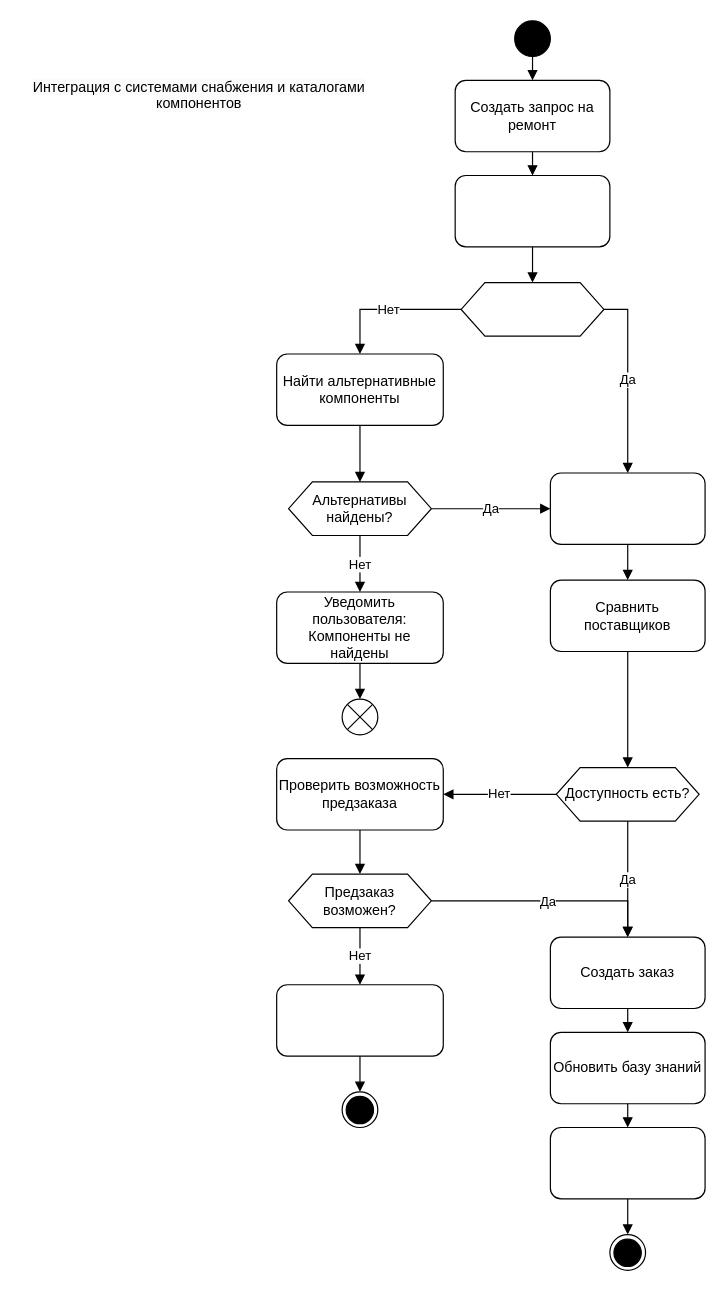
This 726x1291 diagram has some shape labels left out. The shapes that lost their labels are listed below. From the top down, each one's centre as x and y in pixels, then its label:
At [532,210]: "Найти компоненты в каталогах".
At [532,308]: "Компоненты найдены?".
At [627,508]: "Проверить доступность".
At [359,1020]: "Уведомить пользователя: Нет доступности".
At [627,1162]: "Уведомить пользователя".
